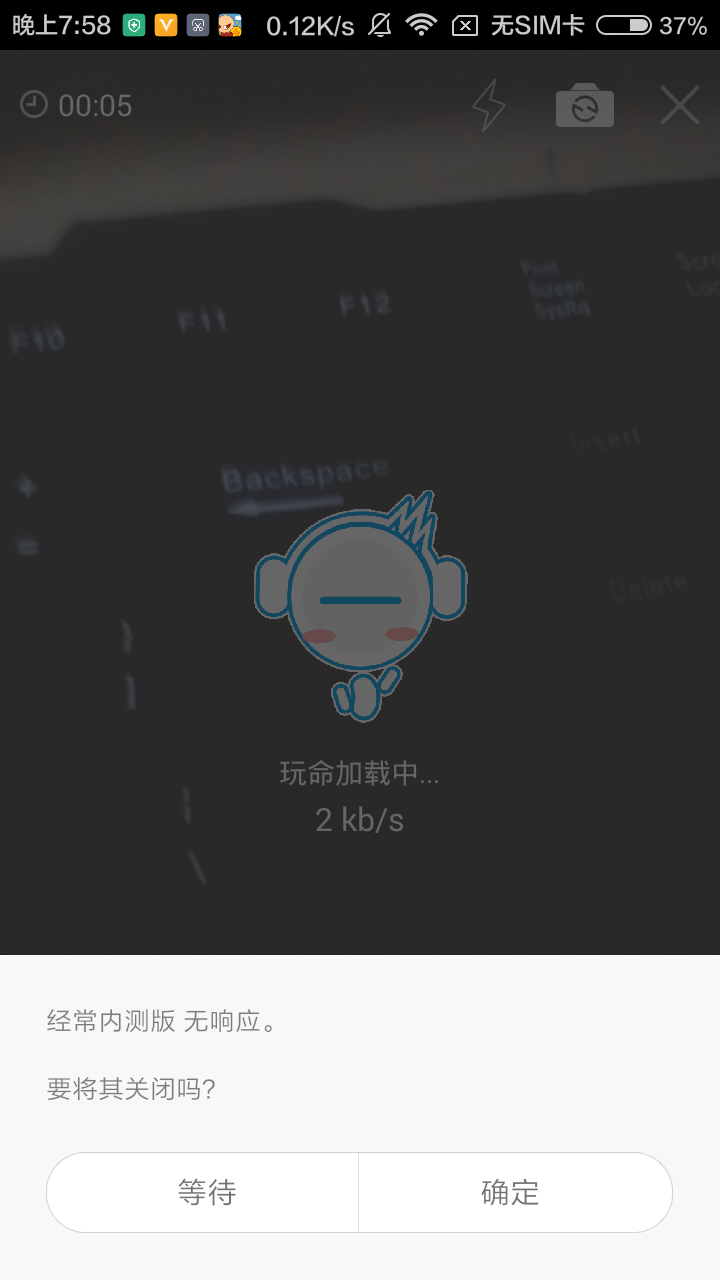alert: (1, 954, 718, 1280)
button: (351, 1141, 681, 1248), (36, 1146, 368, 1246)
textview: (35, 992, 298, 1125)
